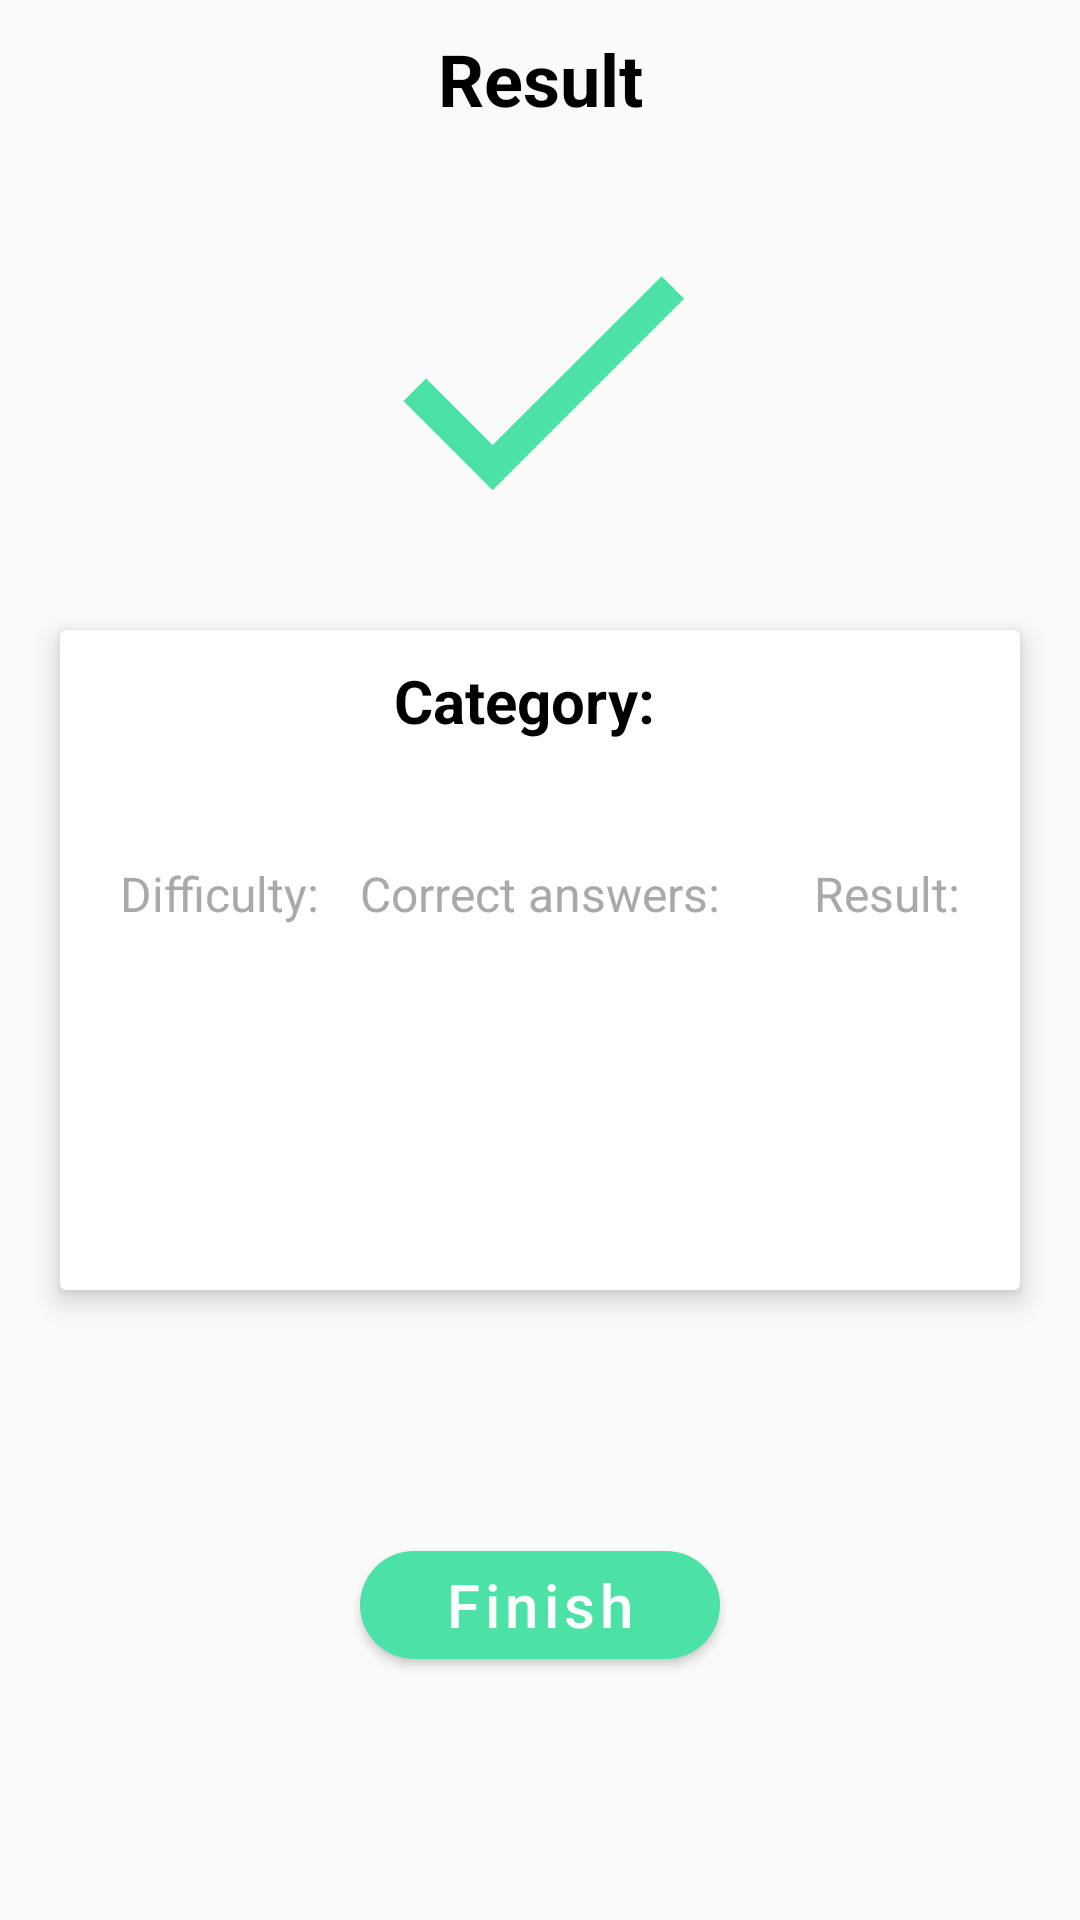

Where to tap for icons on this 1080x1920 app screen, as point (x, y):
Image check: point (543, 383)
